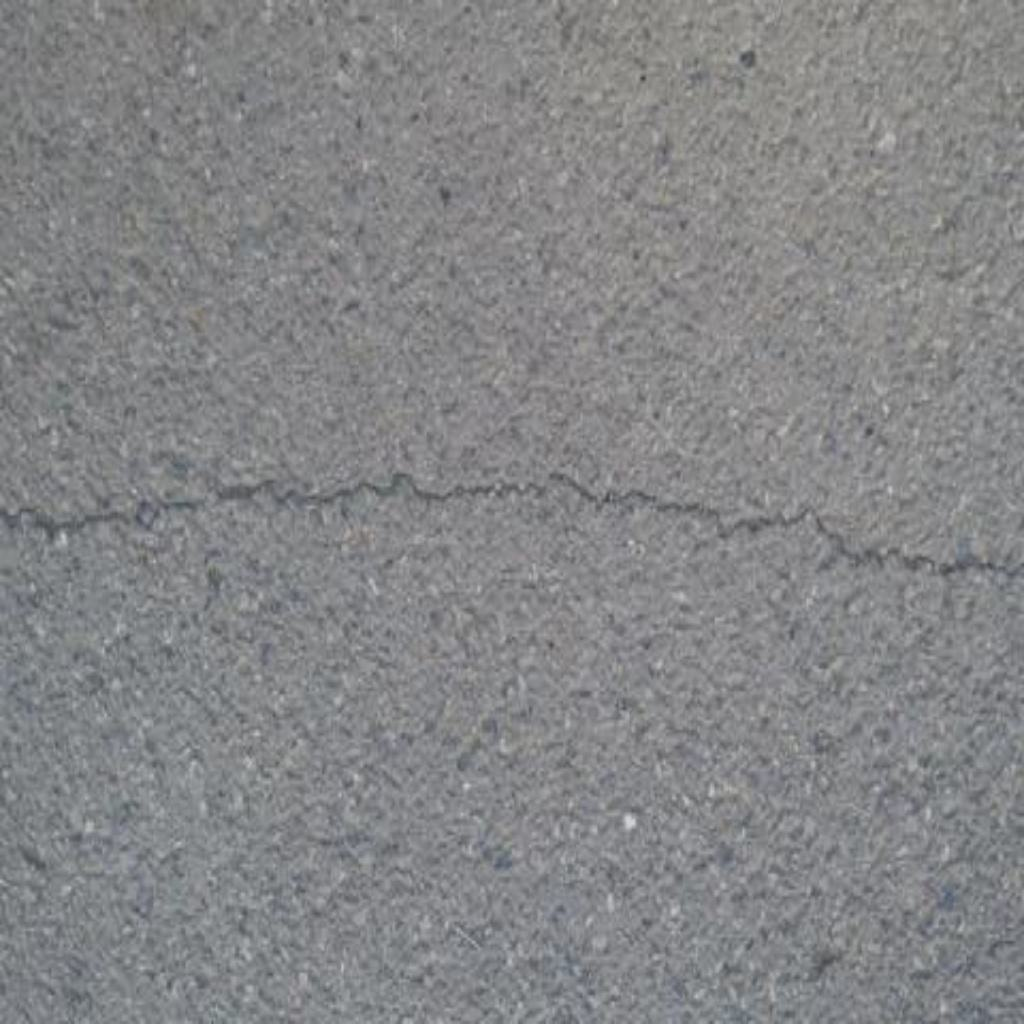Crack: (1, 473, 1024, 578)
